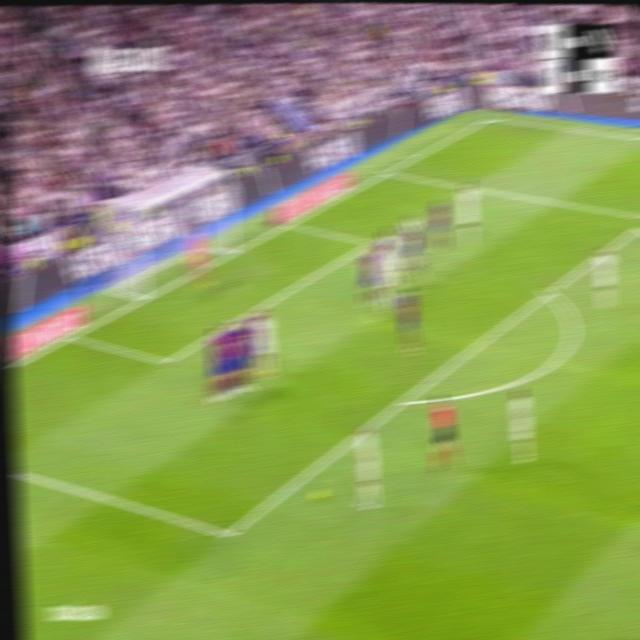bigarea_bottom_inner: (216, 518, 238, 550)
bigarea_top_outter: (379, 163, 396, 179)
bottom_arc_area_intersection: (393, 388, 412, 412)
corner: (481, 111, 498, 123)
smallarea_bottom_inner: (158, 349, 175, 373)
top_arc_area_intersection: (539, 280, 556, 302)
